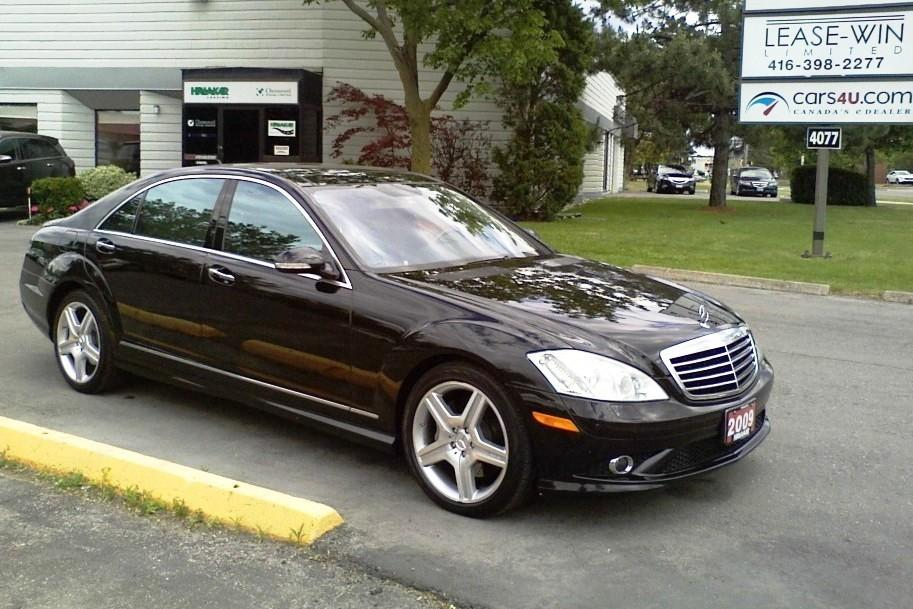car: (11, 152, 787, 564)
